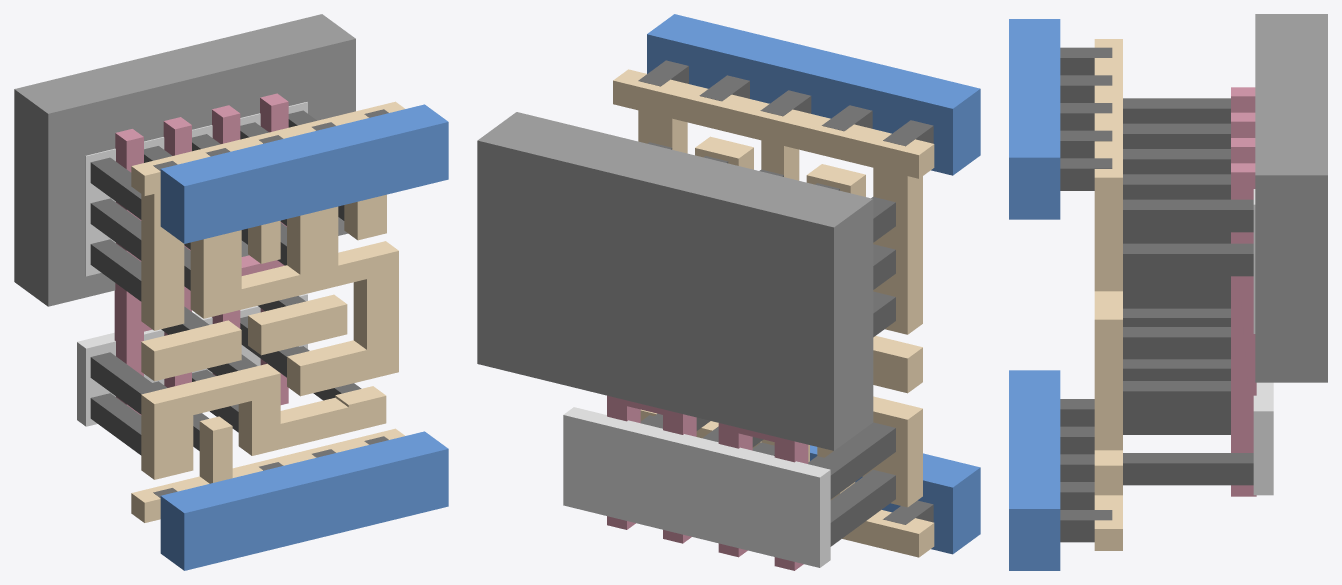
File: sky130_fd_sc_hd__nand2_2.gds.gltf
3 renders of one model, left to right at view 1: azimuth 30°, elevation 25°; view 2: azimuth 150°, elevation 25°; view 3: azimuth 270°, elevation 25°, orthographic. The views are drawn at different scales.
Parts seen in each view (by area): view 1: sky130_fd_sc_hd__nand2_2_li1, sky130_fd_sc_hd__nand2_2_met1, sky130_fd_sc_hd__nand2_2_nwell, sky130_fd_sc_hd__nand2_2_licon, sky130_fd_sc_hd__nand2_2_poly, sky130_fd_sc_hd__nand2_2_diff, sky130_fd_sc_hd__nand2_2_mcon; view 2: sky130_fd_sc_hd__nand2_2_nwell, sky130_fd_sc_hd__nand2_2_li1, sky130_fd_sc_hd__nand2_2_diff, sky130_fd_sc_hd__nand2_2_met1, sky130_fd_sc_hd__nand2_2_licon, sky130_fd_sc_hd__nand2_2_mcon, sky130_fd_sc_hd__nand2_2_poly; view 3: sky130_fd_sc_hd__nand2_2_licon, sky130_fd_sc_hd__nand2_2_nwell, sky130_fd_sc_hd__nand2_2_met1, sky130_fd_sc_hd__nand2_2_li1, sky130_fd_sc_hd__nand2_2_mcon, sky130_fd_sc_hd__nand2_2_poly, sky130_fd_sc_hd__nand2_2_diff.
Part boxes in pixels (x1,y1,x2,y2): sky130_fd_sc_hd__nand2_2_li1: [131, 101, 404, 522]; sky130_fd_sc_hd__nand2_2_met1: [160, 104, 448, 570]; sky130_fd_sc_hd__nand2_2_nwell: [14, 14, 355, 306]; sky130_fd_sc_hd__nand2_2_licon: [90, 110, 361, 455]; sky130_fd_sc_hd__nand2_2_poly: [114, 93, 288, 415]; sky130_fd_sc_hd__nand2_2_diff: [77, 102, 307, 426]; sky130_fd_sc_hd__nand2_2_mcon: [153, 109, 388, 497]; sky130_fd_sc_hd__nand2_2_nwell: [477, 112, 873, 450]; sky130_fd_sc_hd__nand2_2_li1: [613, 69, 934, 557]; sky130_fd_sc_hd__nand2_2_diff: [563, 407, 830, 567]; sky130_fd_sc_hd__nand2_2_met1: [647, 14, 980, 554]; sky130_fd_sc_hd__nand2_2_licon: [640, 142, 895, 546]; sky130_fd_sc_hd__nand2_2_mcon: [638, 60, 933, 524]; sky130_fd_sc_hd__nand2_2_poly: [607, 395, 808, 570]; sky130_fd_sc_hd__nand2_2_licon: [1123, 98, 1253, 485]; sky130_fd_sc_hd__nand2_2_nwell: [1255, 14, 1327, 382]; sky130_fd_sc_hd__nand2_2_met1: [1009, 19, 1060, 570]; sky130_fd_sc_hd__nand2_2_li1: [1094, 39, 1122, 550]; sky130_fd_sc_hd__nand2_2_mcon: [1060, 47, 1112, 542]; sky130_fd_sc_hd__nand2_2_poly: [1231, 87, 1256, 496]; sky130_fd_sc_hd__nand2_2_diff: [1253, 189, 1273, 495].
Bounding box in the file's own units: 2.68 × 3.2 × 2.24.
